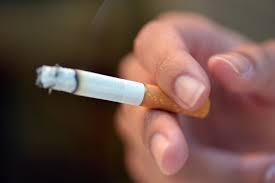smoke: (35, 64, 211, 120)
